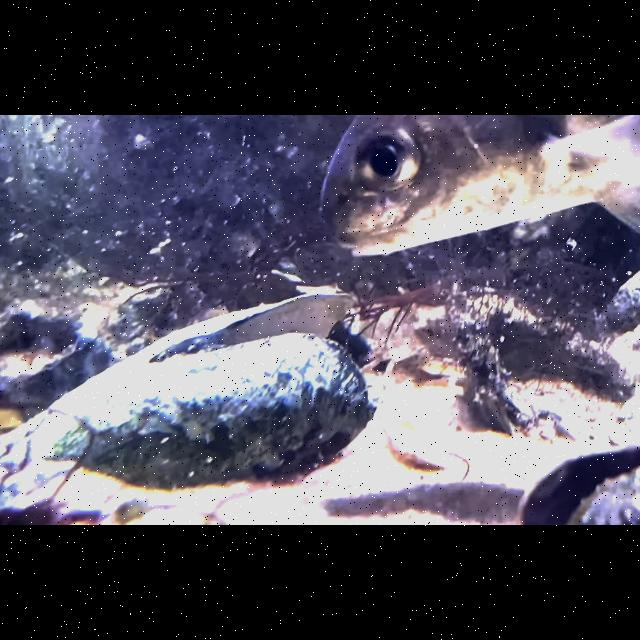Oyster-Closed: (602, 269, 640, 337)
Oyster-Open: (44, 282, 378, 490), (516, 443, 640, 525)
